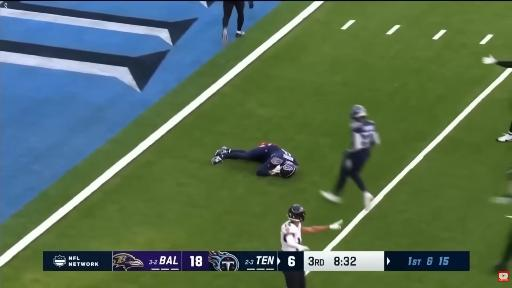Helmet: (288, 205, 305, 221), (280, 162, 297, 177), (351, 105, 367, 118)
Jersey: (257, 144, 298, 175), (351, 120, 380, 151), (260, 143, 298, 166), (281, 221, 301, 251)
Player: (320, 105, 380, 209), (212, 143, 298, 177), (281, 205, 342, 251), (494, 168, 511, 203), (482, 55, 511, 67), (497, 122, 511, 142)
